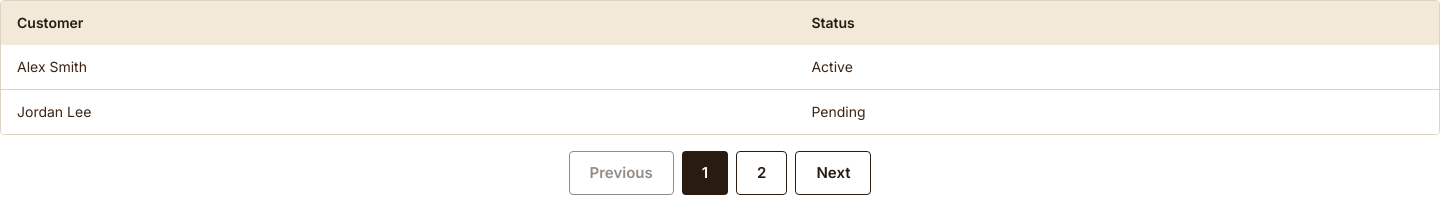
Table › works with pagination to display the selected page of records
Check: the text "Alex Smith" is shown, box [1,45,795,90]
Check: the text "Jordan Lee" is shown, box [1,90,795,134]
What coordinates should you click on to do the following:
click the button named "Go to page 2"
I would click on:
 (762, 173)
Its box is [736,151,788,195].
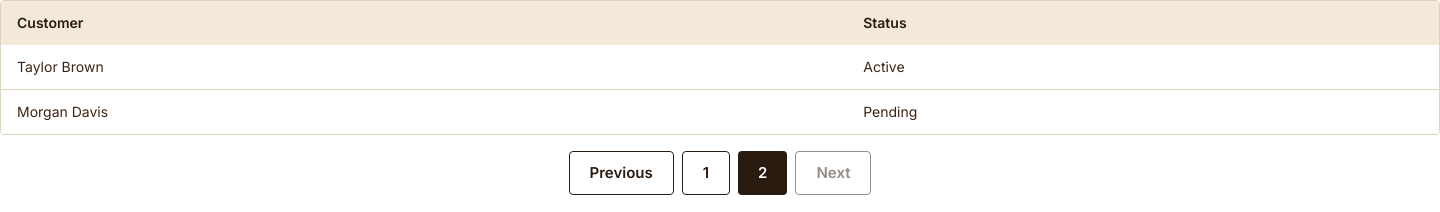
Check: the text "Taylor Brown" is shown, box [1,45,847,90]
Check: the text "Morgan Davis" is shown, box [1,90,847,134]
Check: the text "Alex Smith" is gone
